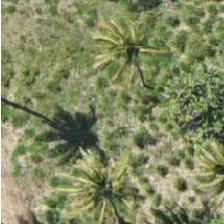coconut_tree: (85, 0, 175, 90), (48, 132, 138, 222), (170, 120, 223, 210)
